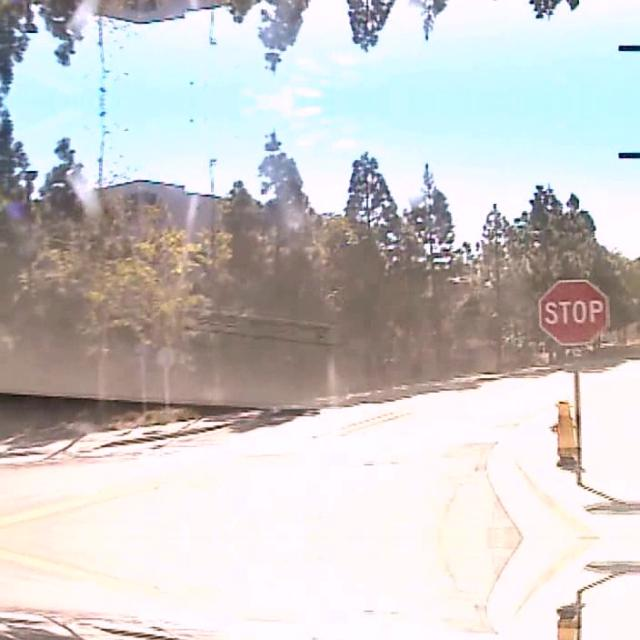stop: (538, 278, 610, 344)
